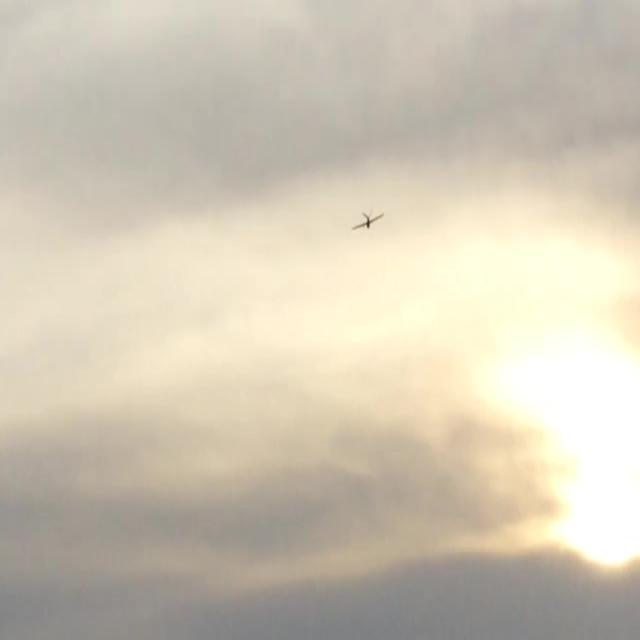iha: (350, 208, 385, 234)
